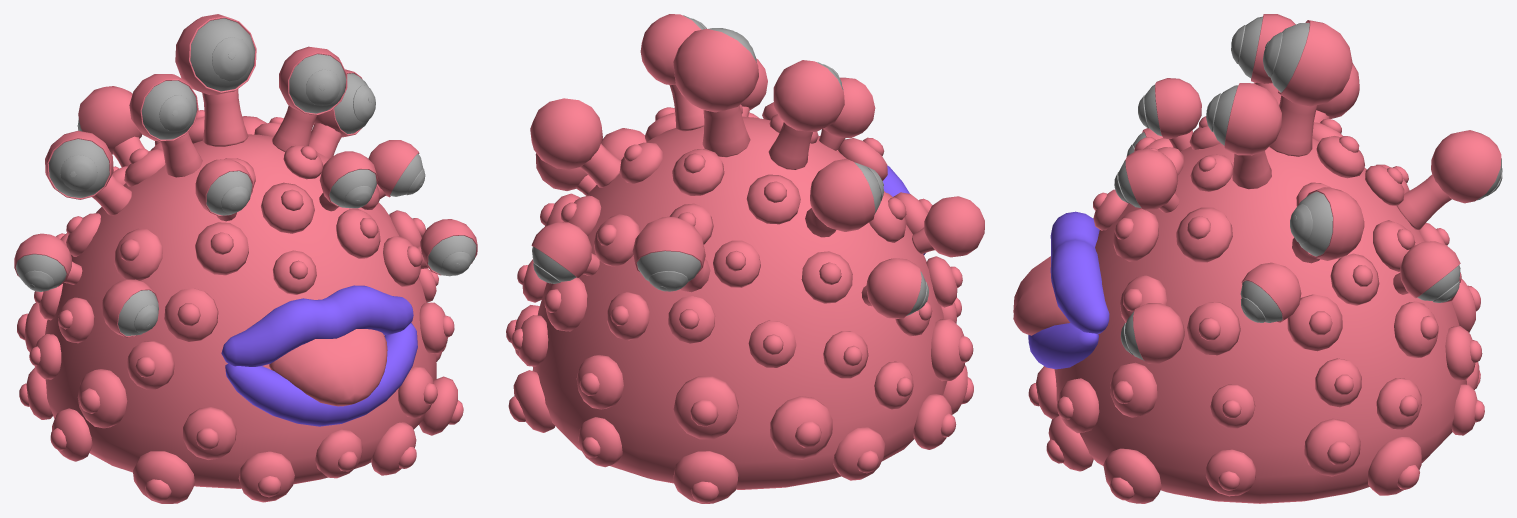
The model's file is GlobMonster.fbx.
3 renders of one model, left to right at view 1: azimuth 30°, elevation 25°; view 2: azimuth 150°, elevation 25°; view 3: azimuth 270°, elevation 25°, orthographic. The views are drawn at different scales.
Parts seen in each view (by area): view 1: S_GlobMonster, M_GlobMonster, D_GlobMonster_6 (×4), D_GlobMonster_2, D_GlobMonster_4, D_GlobMonster_1, D_GlobMonster_3, D_GlobMonster_7, D_GlobMonster_5; view 2: S_GlobMonster, M_GlobMonster, D_GlobMonster_1; view 3: S_GlobMonster, M_GlobMonster, D_GlobMonster_7, D_GlobMonster_2.
Part boxes in pixels (x1,y1,x2,y2): S_GlobMonster: [14, 14, 477, 503]; M_GlobMonster: [16, 18, 476, 426]; D_GlobMonster_6 (×4): [134, 185, 471, 332]; D_GlobMonster_2: [212, 37, 251, 81]; D_GlobMonster_4: [60, 155, 97, 190]; D_GlobMonster_1: [306, 69, 340, 105]; D_GlobMonster_3: [159, 95, 193, 131]; D_GlobMonster_7: [353, 85, 375, 122]; D_GlobMonster_5: [23, 270, 53, 291]; S_GlobMonster: [506, 14, 984, 503]; M_GlobMonster: [532, 15, 926, 315]; D_GlobMonster_1: [649, 271, 688, 291]; S_GlobMonster: [1028, 14, 1501, 503]; M_GlobMonster: [1013, 16, 1501, 369]; D_GlobMonster_7: [1290, 204, 1312, 243]; D_GlobMonster_2: [1263, 32, 1282, 76].
Bounding box in the file's own units: 492 × 478 × 509.
